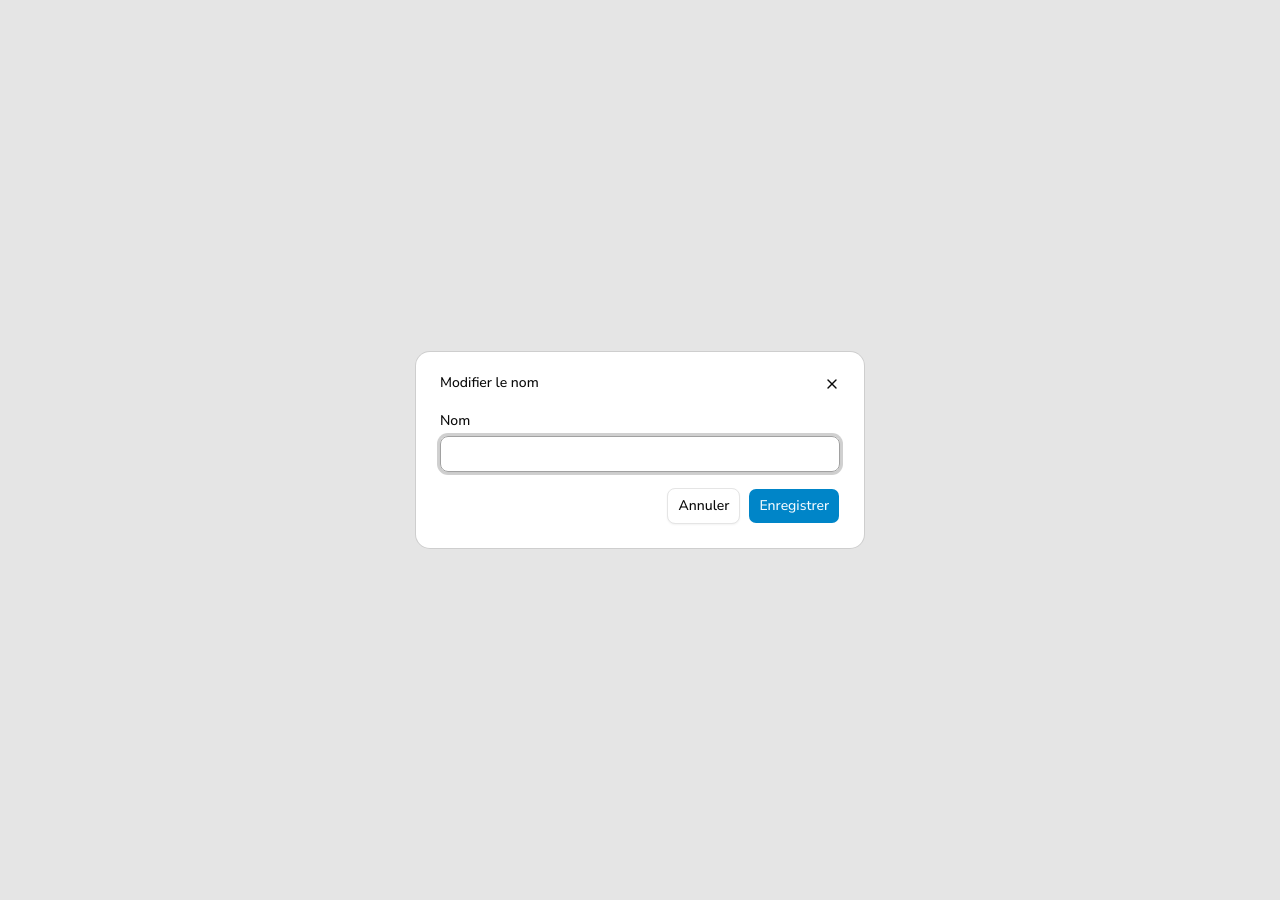
Scenario: EditNameDialog › bloque la soumission si le nom est vide
Click the button "Enregistrer" at (794, 506), box [748,488,840,524]
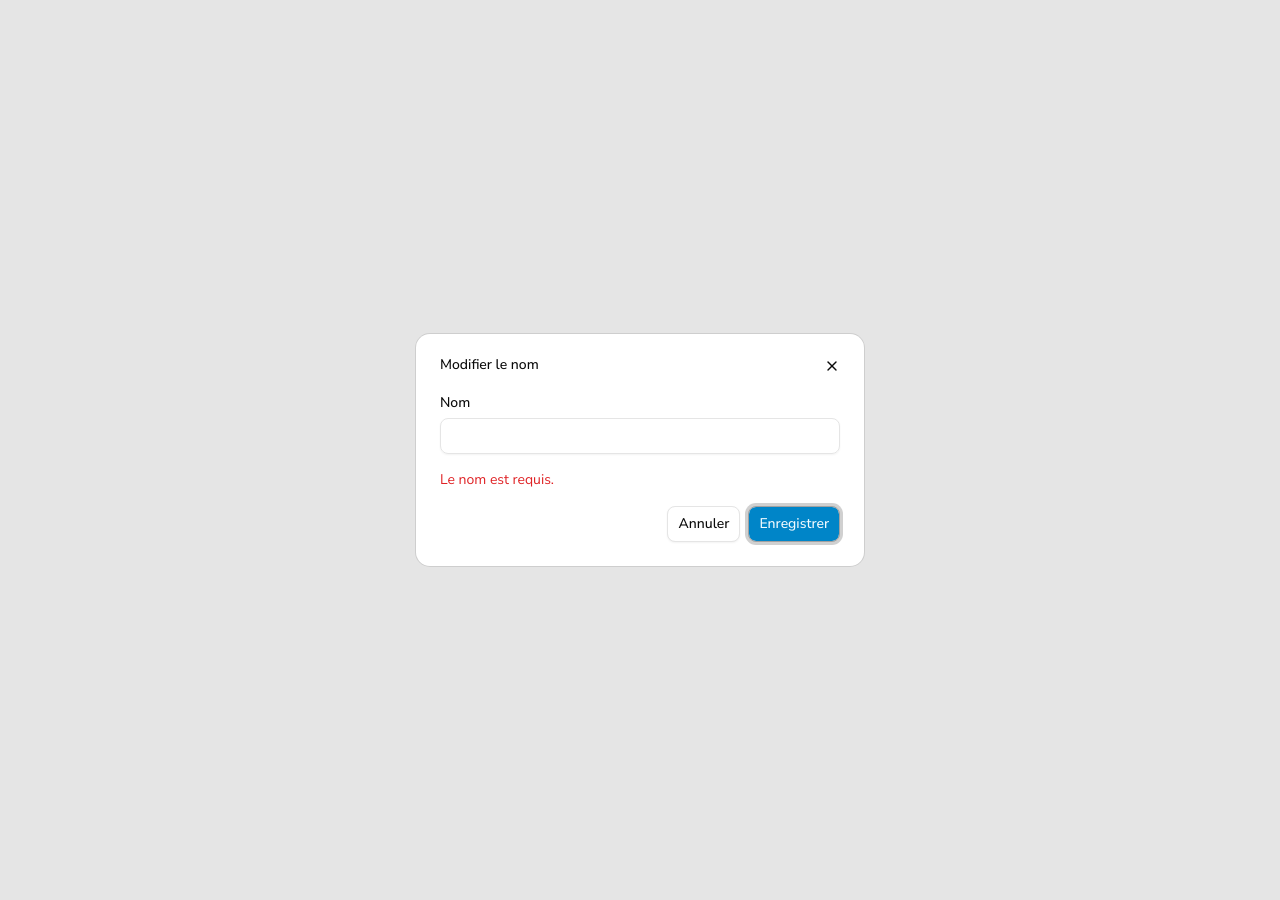
Check: the text "Le nom est requis." is shown, box [440,470,554,489]
